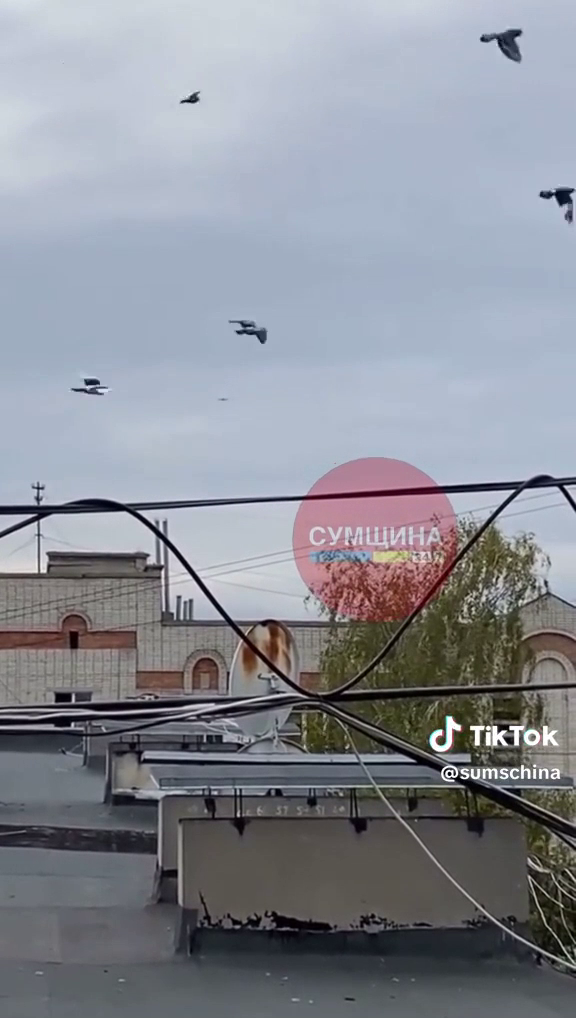not_drone: (476, 24, 526, 67), (535, 181, 576, 227), (65, 370, 115, 400), (226, 316, 270, 346), (176, 86, 203, 110)
